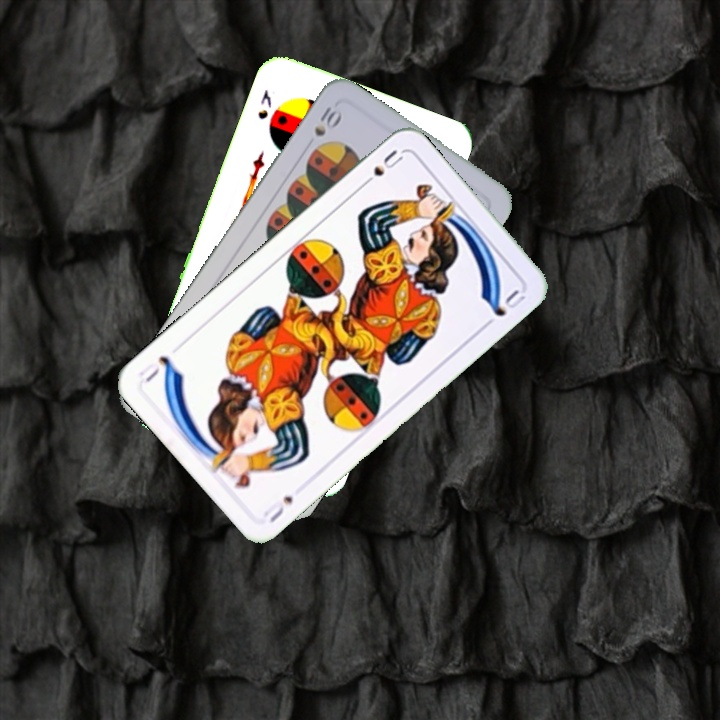S10: (310, 102, 343, 139)
SK: (253, 85, 274, 122)
SU: (356, 145, 406, 191), (259, 491, 295, 526)
